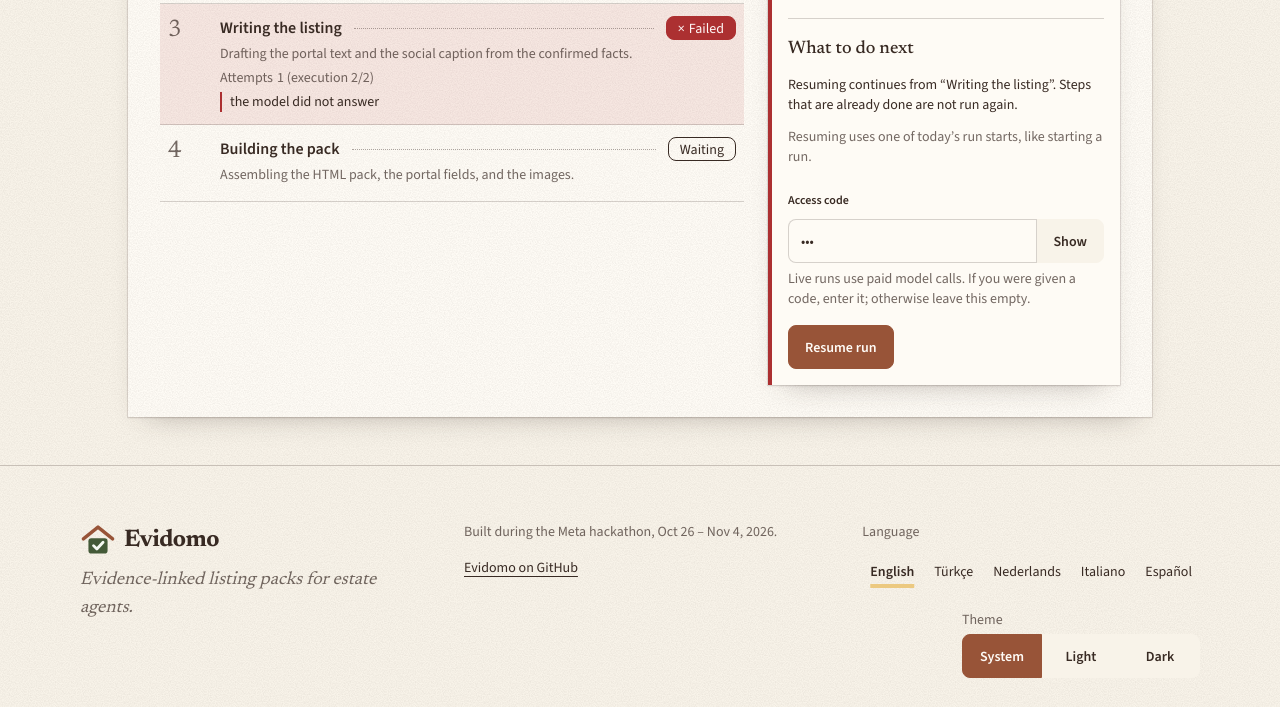
Test case: failed run: what stopped, what is kept, what to do › 403 access_code_invalid: field error, stored code forgotten, can try again
(page scrolled)
Click the button "Resume run".
click(841, 347)  # box top-left (788, 325), bottom-right (894, 369)
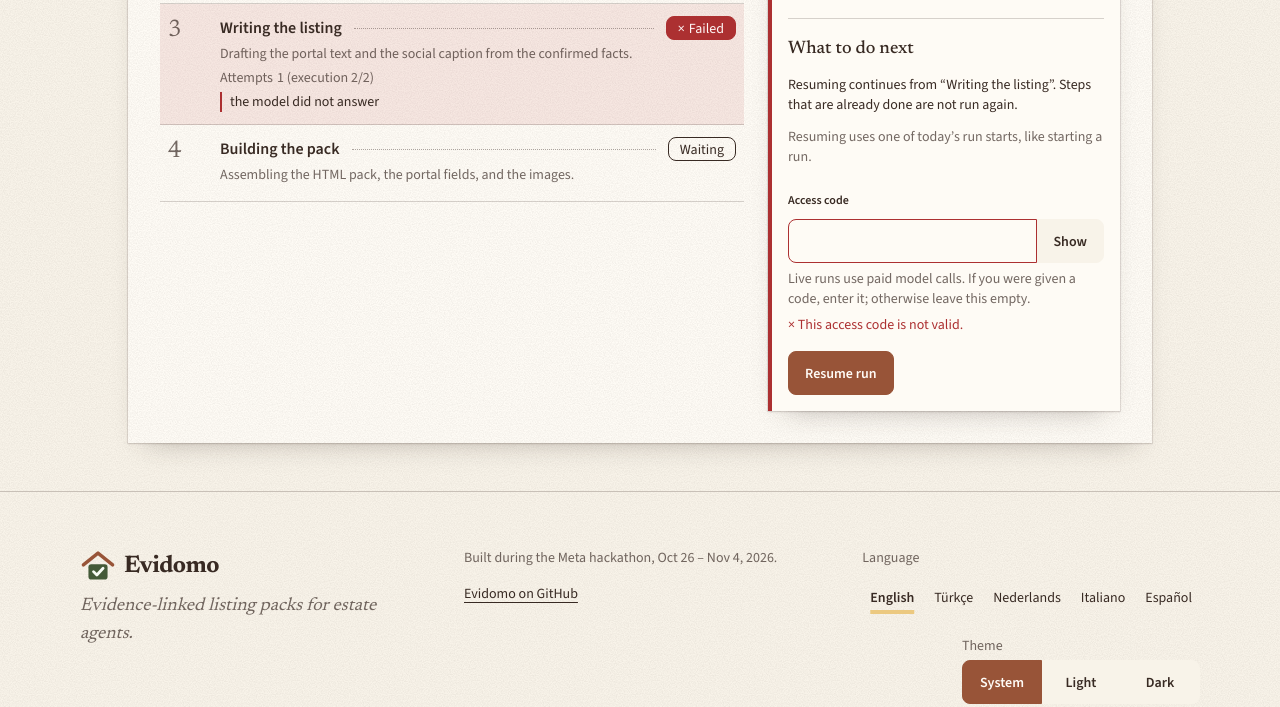
Expected: the button "Resume run" is enabled, top-left (788, 351), bottom-right (894, 395)
Result: the text "This access code is not valid." is shown at top-left (798, 315), bottom-right (963, 334)
